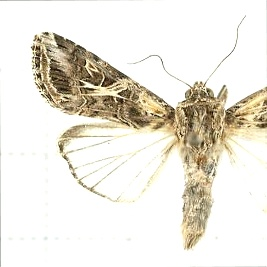Spodoptera litura: (30, 14, 267, 252)
